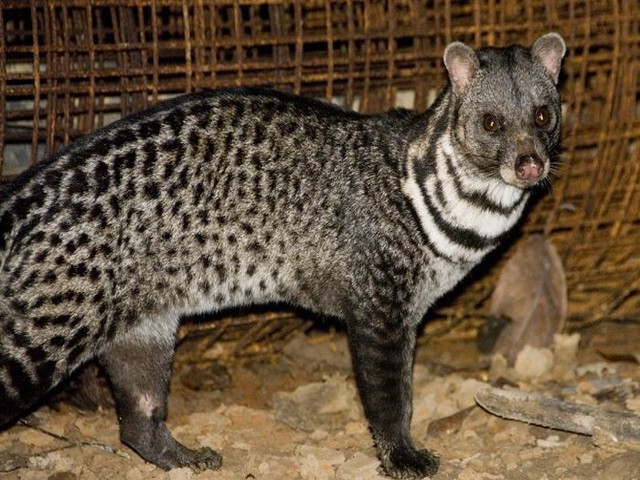civet: (7, 30, 574, 479)
